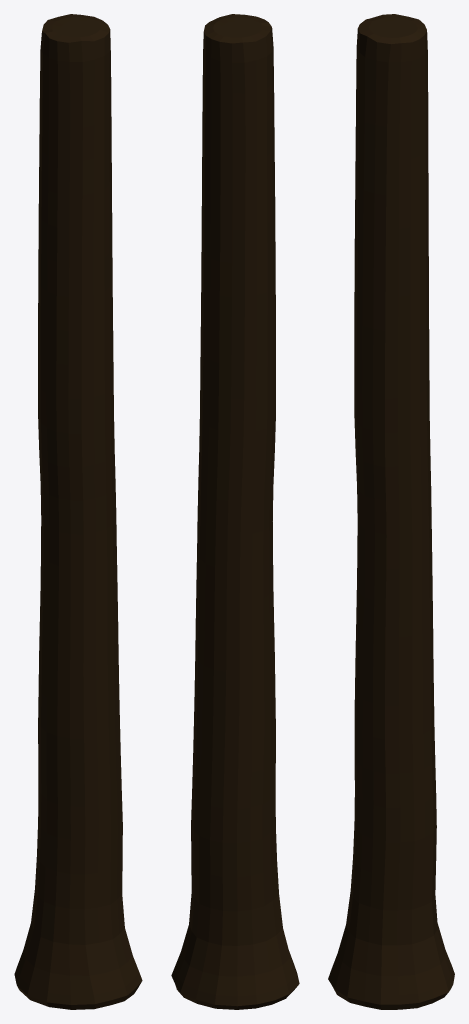
The model's file is TrunkLarge.glb.
3 renders of one model, left to right at view 1: azimuth 30°, elevation 25°; view 2: azimuth 210°, elevation 25°; view 3: azimuth 330°, elevation 25°, orthographic.
Parts seen in each view (by area): view 1: Retopo_GROS TRONC.001; view 2: Retopo_GROS TRONC.001; view 3: Retopo_GROS TRONC.001.
Part boxes in pixels (x1,y1,x2,y2): Retopo_GROS TRONC.001: [14, 14, 142, 1009]; Retopo_GROS TRONC.001: [171, 14, 299, 1009]; Retopo_GROS TRONC.001: [328, 14, 454, 1009].
Size of the model in its own units: 13.56 by 112 by 13.2.
